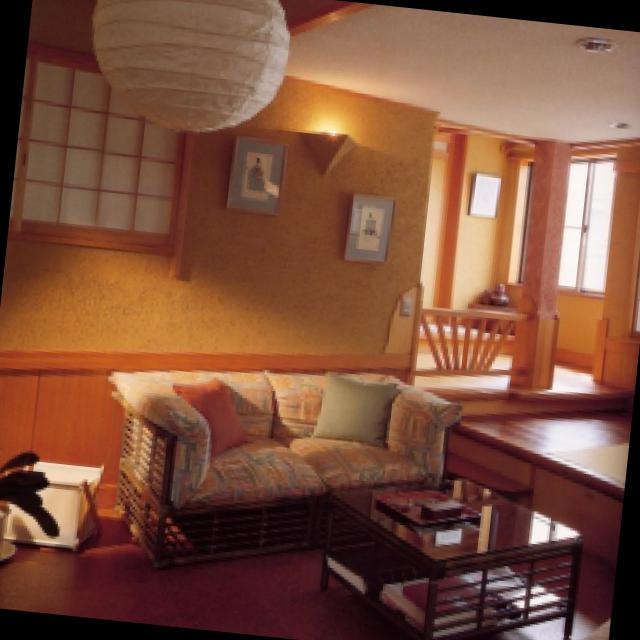2001: (12, 39, 197, 250), (561, 158, 619, 290), (511, 156, 535, 284)
books crop: (330, 539, 505, 634)
box contants: (6, 459, 106, 546), (429, 495, 464, 516)
cabinet door: (463, 298, 519, 331)
ceiling beam: (36, 0, 640, 141)
ceiling lamps: (96, 0, 295, 129), (581, 31, 619, 51), (610, 115, 637, 128)
door bars: (422, 127, 465, 303)
lamp crop: (305, 130, 359, 170)
magazine holder: (377, 484, 486, 526)
painting crop: (229, 136, 289, 213), (349, 191, 398, 259), (472, 171, 504, 216)
pillow occluded: (315, 369, 402, 443), (175, 377, 250, 455)
plant -x: (0, 448, 64, 535)
rail crop: (410, 284, 533, 383)
rug -partially obscured-: (553, 438, 629, 480)
small table part: (322, 476, 587, 640)
sofa bed: (115, 371, 462, 559)
step: (448, 447, 537, 491)
vase -X: (486, 278, 518, 308)
